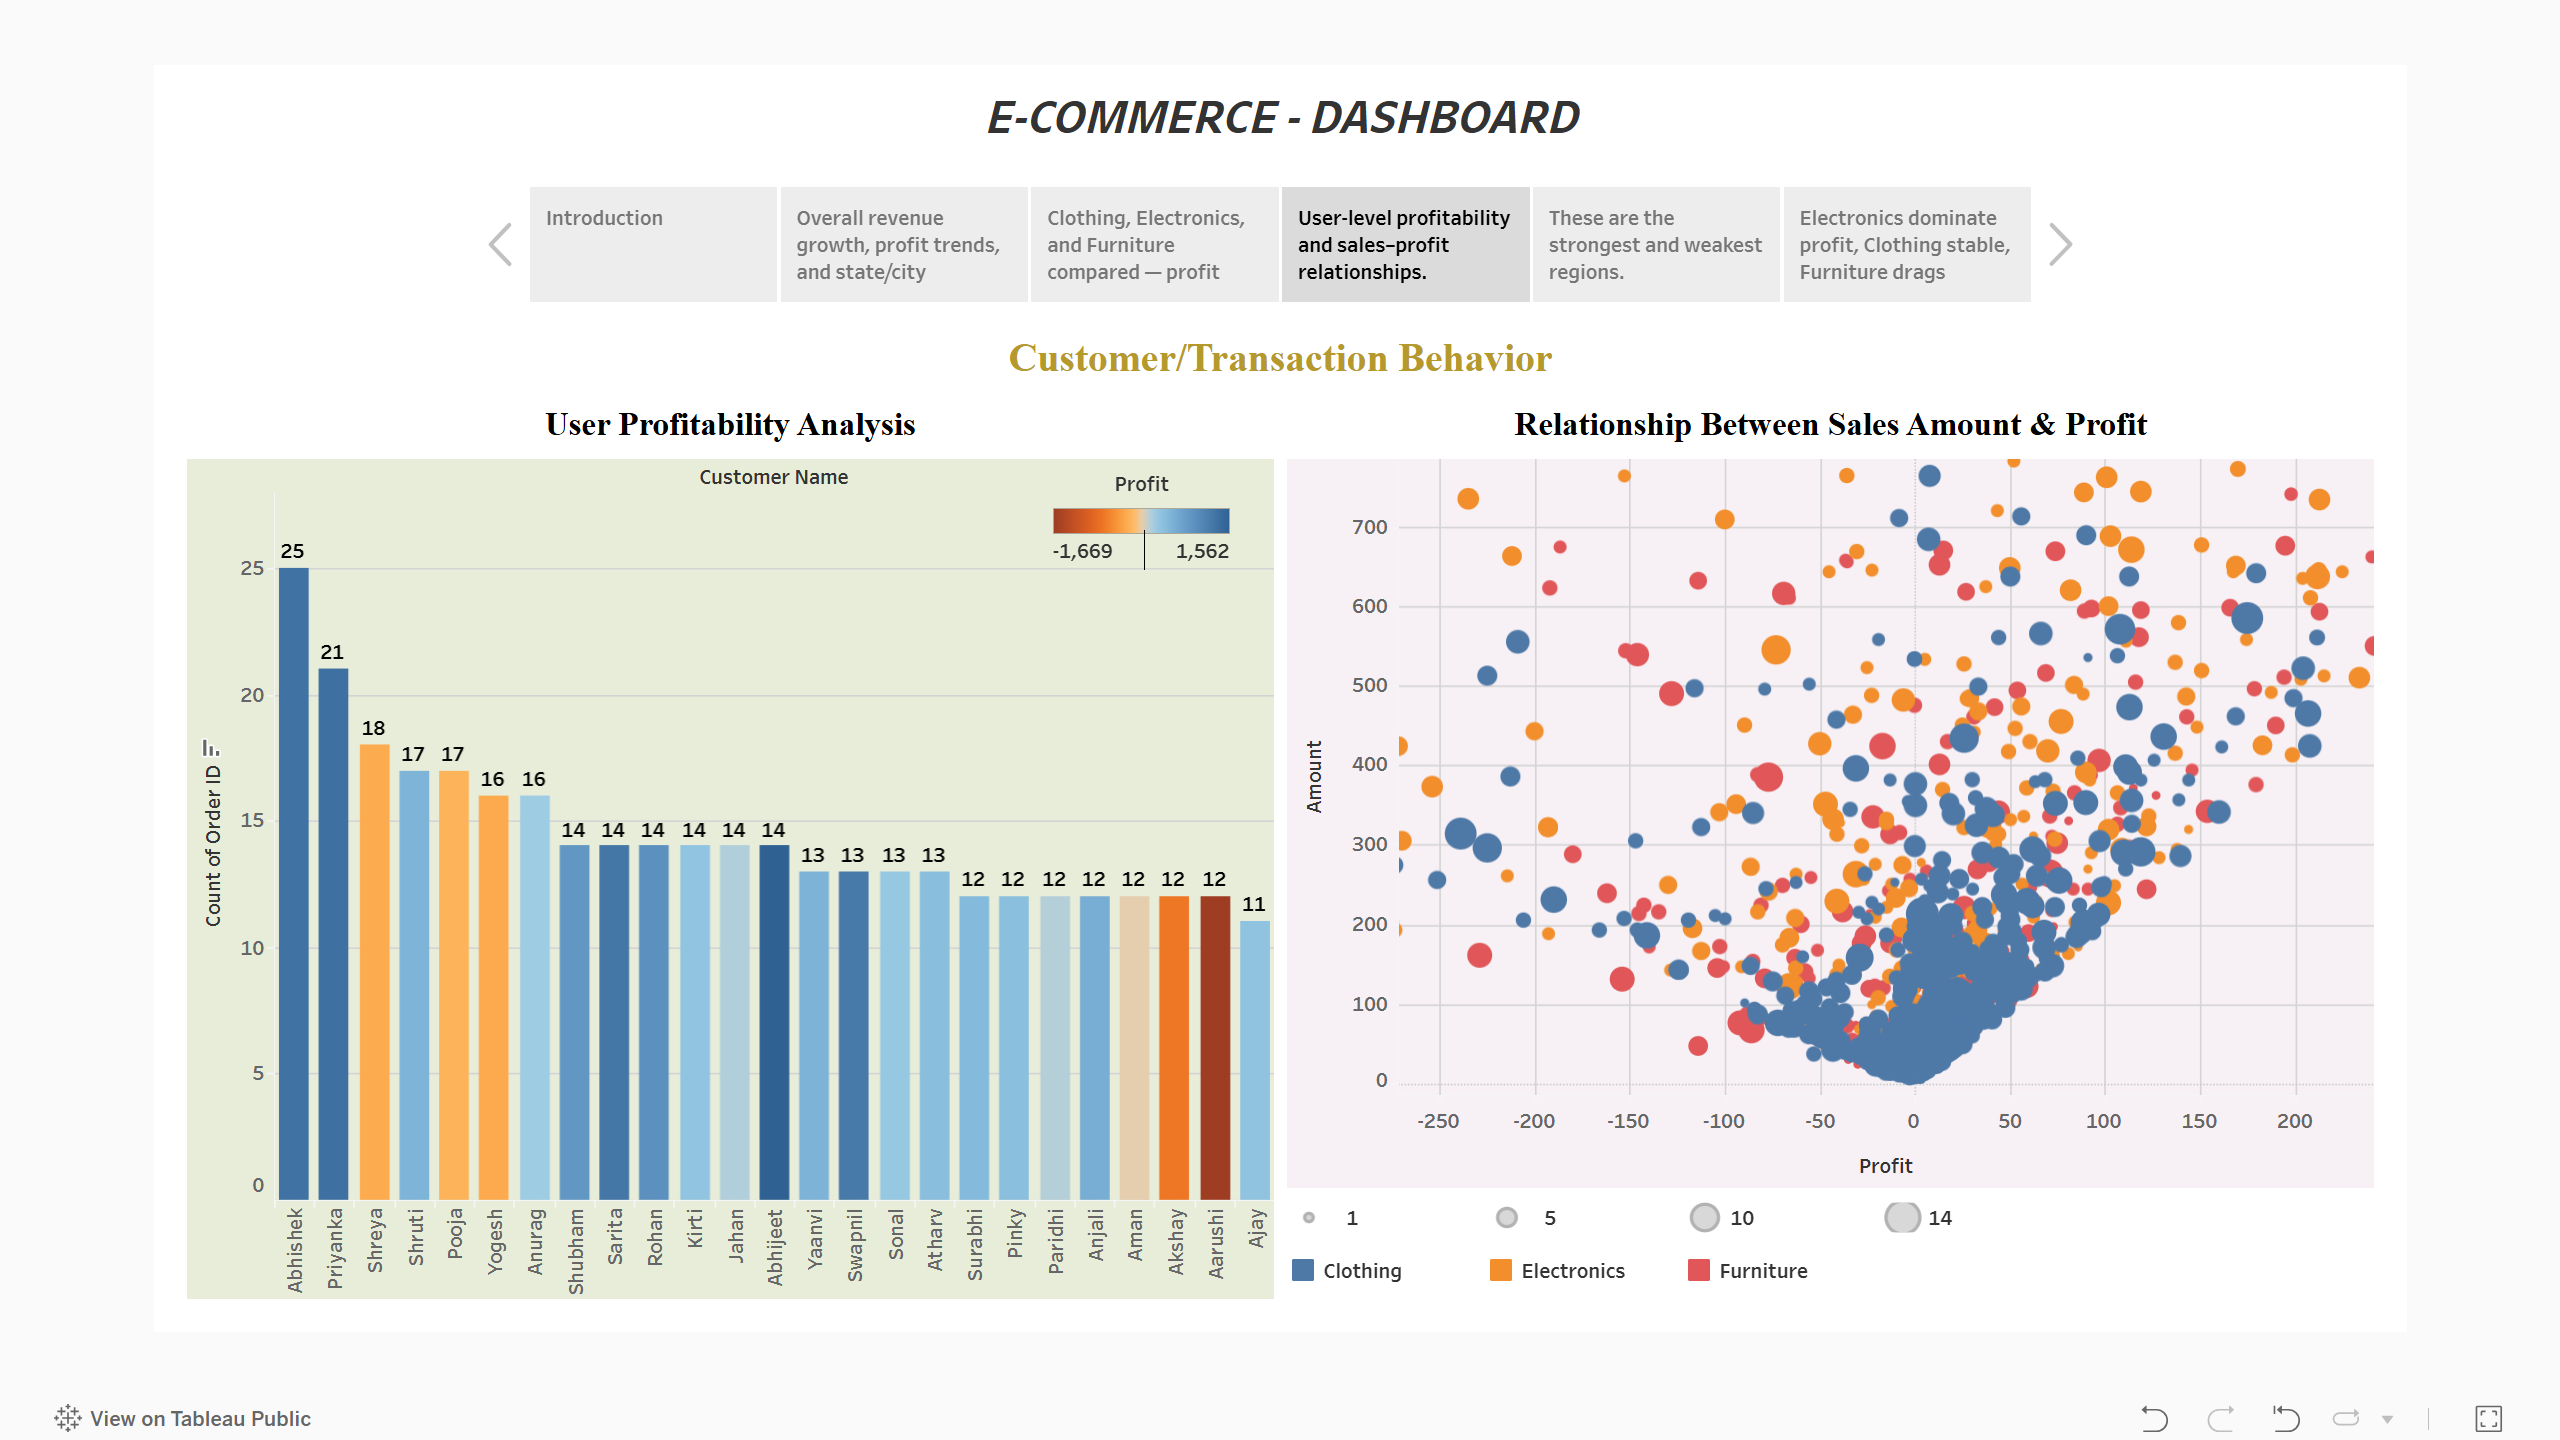

This screenshot's page, from the dashboard's own definition file:
{"tool":"tableau","page":{"name":"Customer/Transaction Behavior","canvas":[1000,1000],"units":"permille","ordinal":1},"visuals":[{"type":"title","box":[6,14.3,988,50.2]},{"type":"worksheet","title":"customer_bar_chart","mark":"Automatic","rows":["Order ID"],"cols":["CustomerName"],"box":[6,67.7,494,918]},{"type":"worksheet","title":"Scatter_plot","mark":"Circle","rows":["Amount"],"cols":["Profit"],"box":[500,67.7,494,803.7]},{"type":"legend","title":"customer_bar_chart","param":"[federated.1dc9i420t5on941e81dtr1lsql6r].[sum:Profit:qk]","box":[395,148.2,85.8,107.1]},{"type":"legend","title":"Scatter_plot","param":"[federated.1dc9i420t5on941e81dtr1lsql6r].[sum:Quantity:qk]","box":[500,871.4,494,57.1]},{"type":"legend","title":"Scatter_plot","param":"[federated.1dc9i420t5on941e81dtr1lsql6r].[none:Category:nk]","box":[500,928.6,494,50]}]}

Visuals, with their boxes on the dashboard's canvas, which has no fixed pixel size, in thousandths of its width and height (x1, y1, x2, y2). These are canvas units, not pixel positions in the 2560x1440 screenshot, which may show the page scaled, cropped or inside an application window:
title: select_region(6, 14, 994, 64)
"customer_bar_chart" worksheet: select_region(6, 68, 500, 986)
"Scatter_plot" worksheet (Circle marks): select_region(500, 68, 994, 871)
"customer_bar_chart" legend: select_region(395, 148, 481, 255)
"Scatter_plot" legend: select_region(500, 871, 994, 928)
"Scatter_plot" legend: select_region(500, 929, 994, 979)
